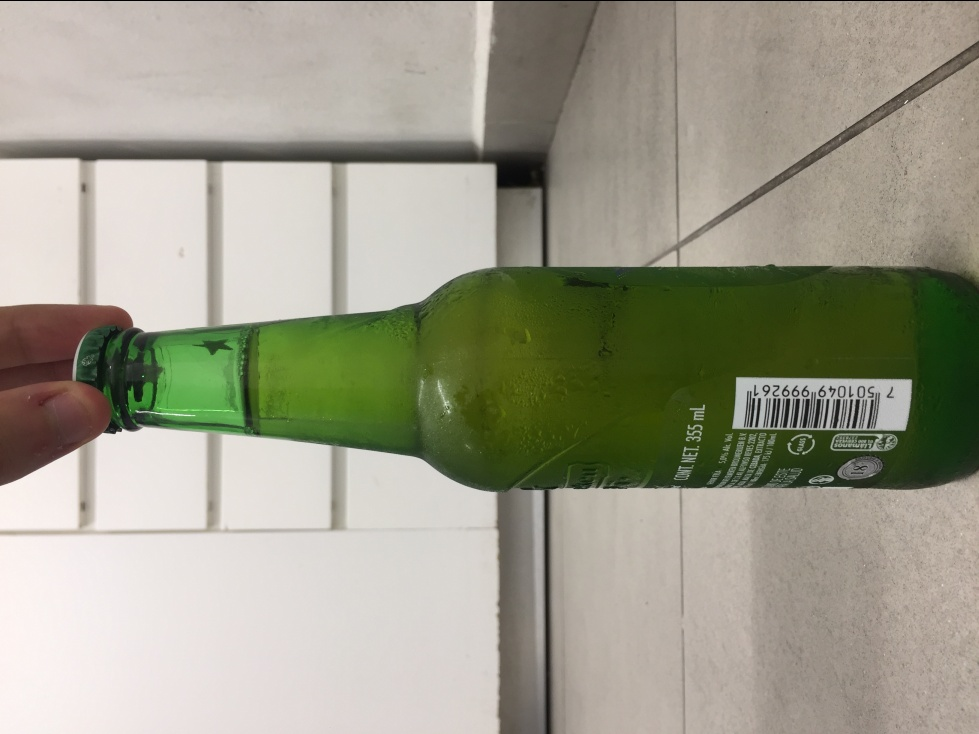heineken: (69, 261, 979, 494)
